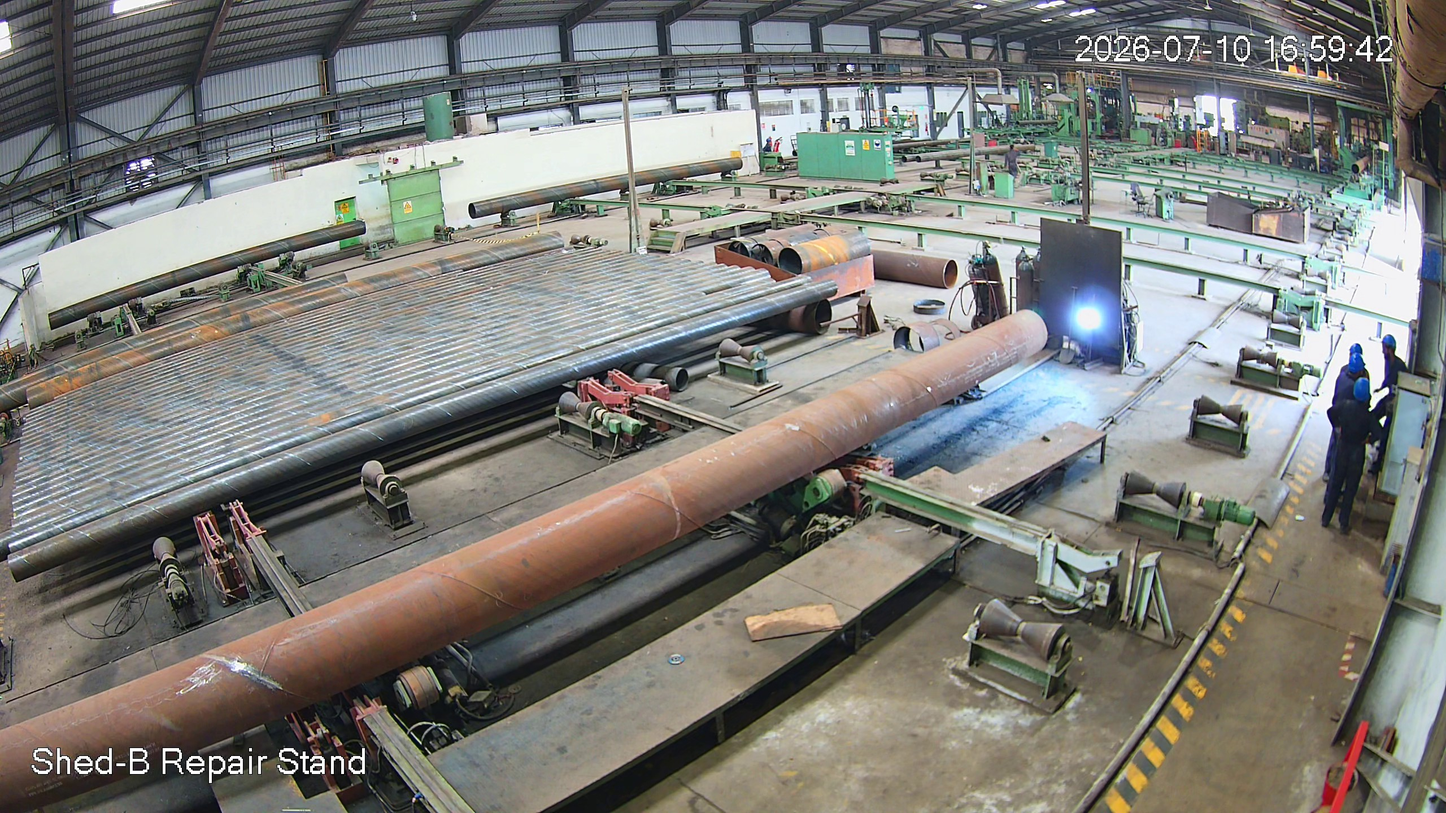Helmet: (1344, 338, 1378, 376), (1354, 376, 1379, 417), (1379, 329, 1404, 363)
Person: (1322, 380, 1375, 528), (1373, 333, 1410, 476), (1327, 343, 1364, 433)
